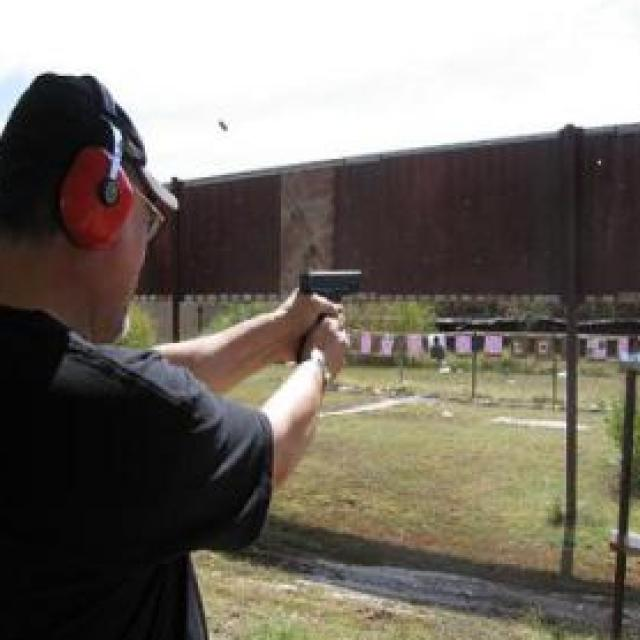pistol: (296, 264, 366, 362)
